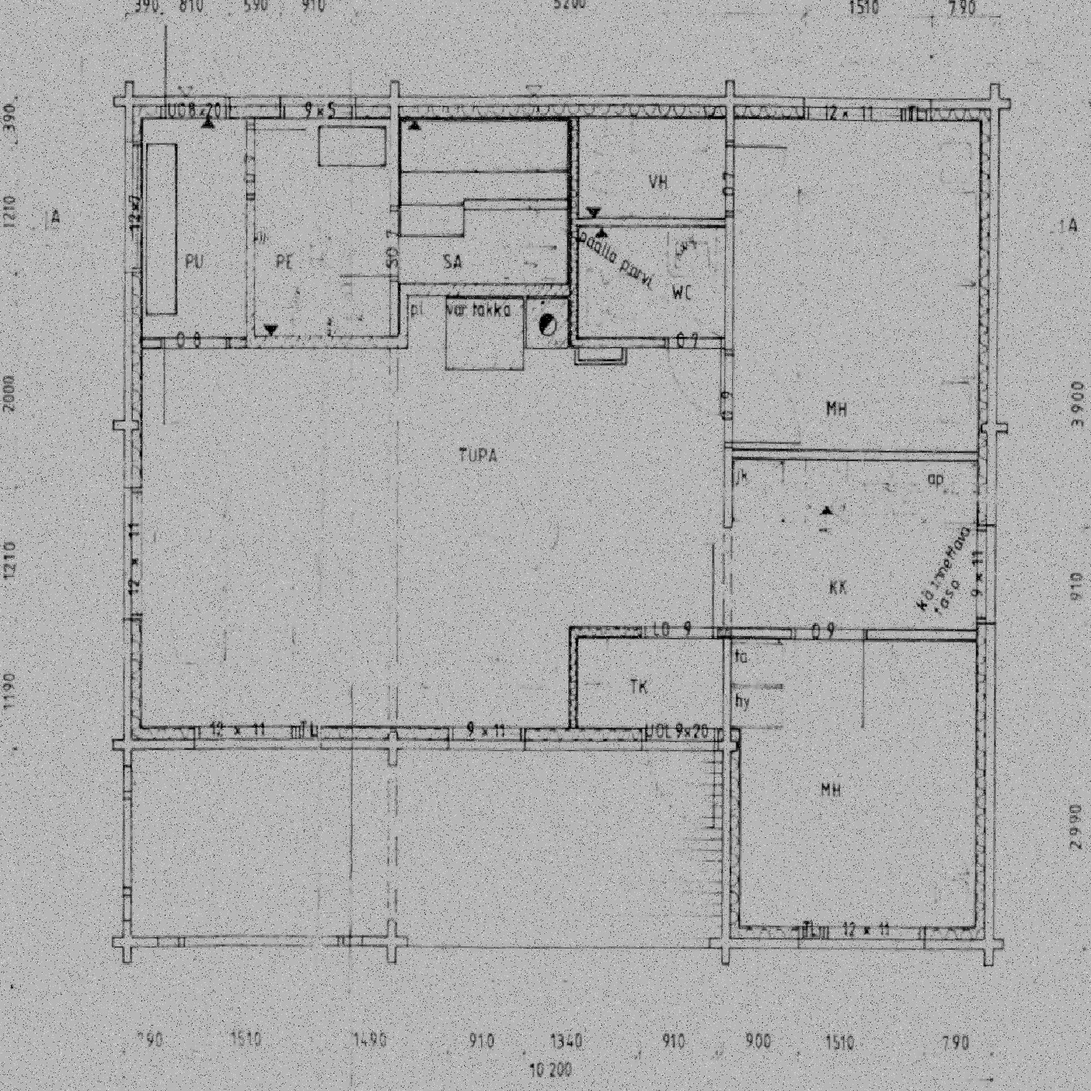wall: (123, 96, 998, 118), (123, 728, 739, 752), (982, 96, 998, 949), (123, 96, 140, 752), (723, 928, 998, 949), (724, 117, 731, 728), (570, 628, 981, 638), (723, 728, 739, 927), (140, 338, 407, 348), (731, 452, 981, 461), (569, 117, 577, 350), (399, 118, 407, 348), (246, 118, 254, 337), (407, 287, 577, 297), (569, 340, 724, 349), (577, 219, 724, 228), (570, 628, 578, 728), (575, 349, 626, 364), (991, 77, 999, 117), (123, 728, 130, 767), (111, 96, 140, 105), (723, 928, 730, 965), (991, 940, 999, 965), (991, 940, 1011, 949), (709, 937, 729, 946), (998, 423, 1011, 433), (111, 420, 123, 430), (111, 742, 123, 752), (998, 96, 1011, 105), (724, 81, 731, 96), (390, 752, 397, 767), (392, 82, 399, 96), (123, 82, 130, 96)
